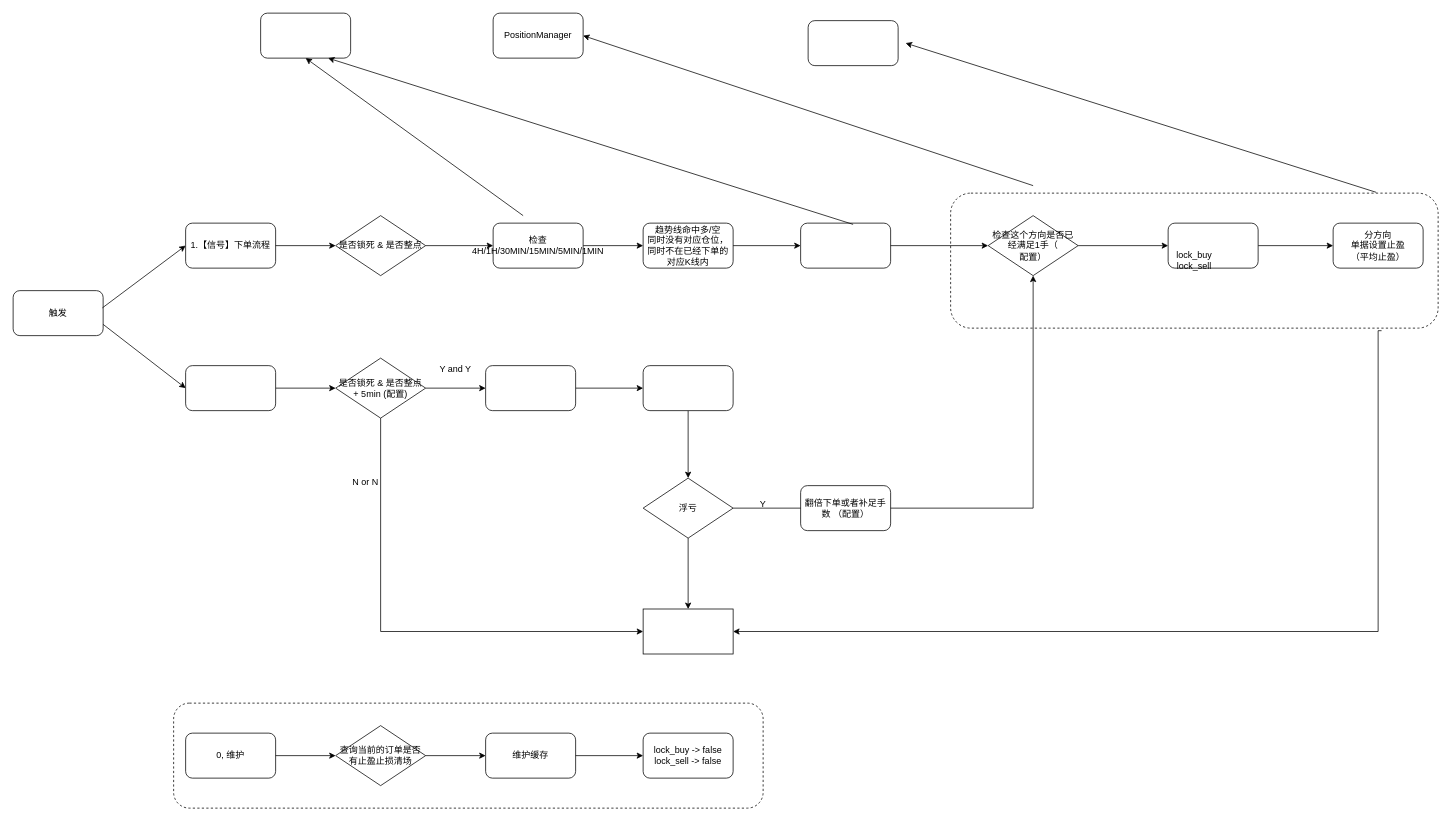
Some shapes in this 1451 by 821 pixel diagram are drawn without their labels. The centre of each missing label's shape, as x and y in pixels:
"2.【马丁】下单流程" belongs at point (230, 388).
"CacheManager" belongs at point (305, 35).
"Exit" belongs at point (687, 631).
"OrderManager" belongs at point (852, 43).
"下单0.05 (配置文件读取)" belongs at point (845, 245).
"各个方向分别检查 是否有500个点的浮亏 配置文件" belongs at point (687, 388).
"整点 + 5min 排除6点/7点（时令） 配置文件读取" belongs at point (530, 388).
"锁死某个方向" belongs at point (1212, 245).
